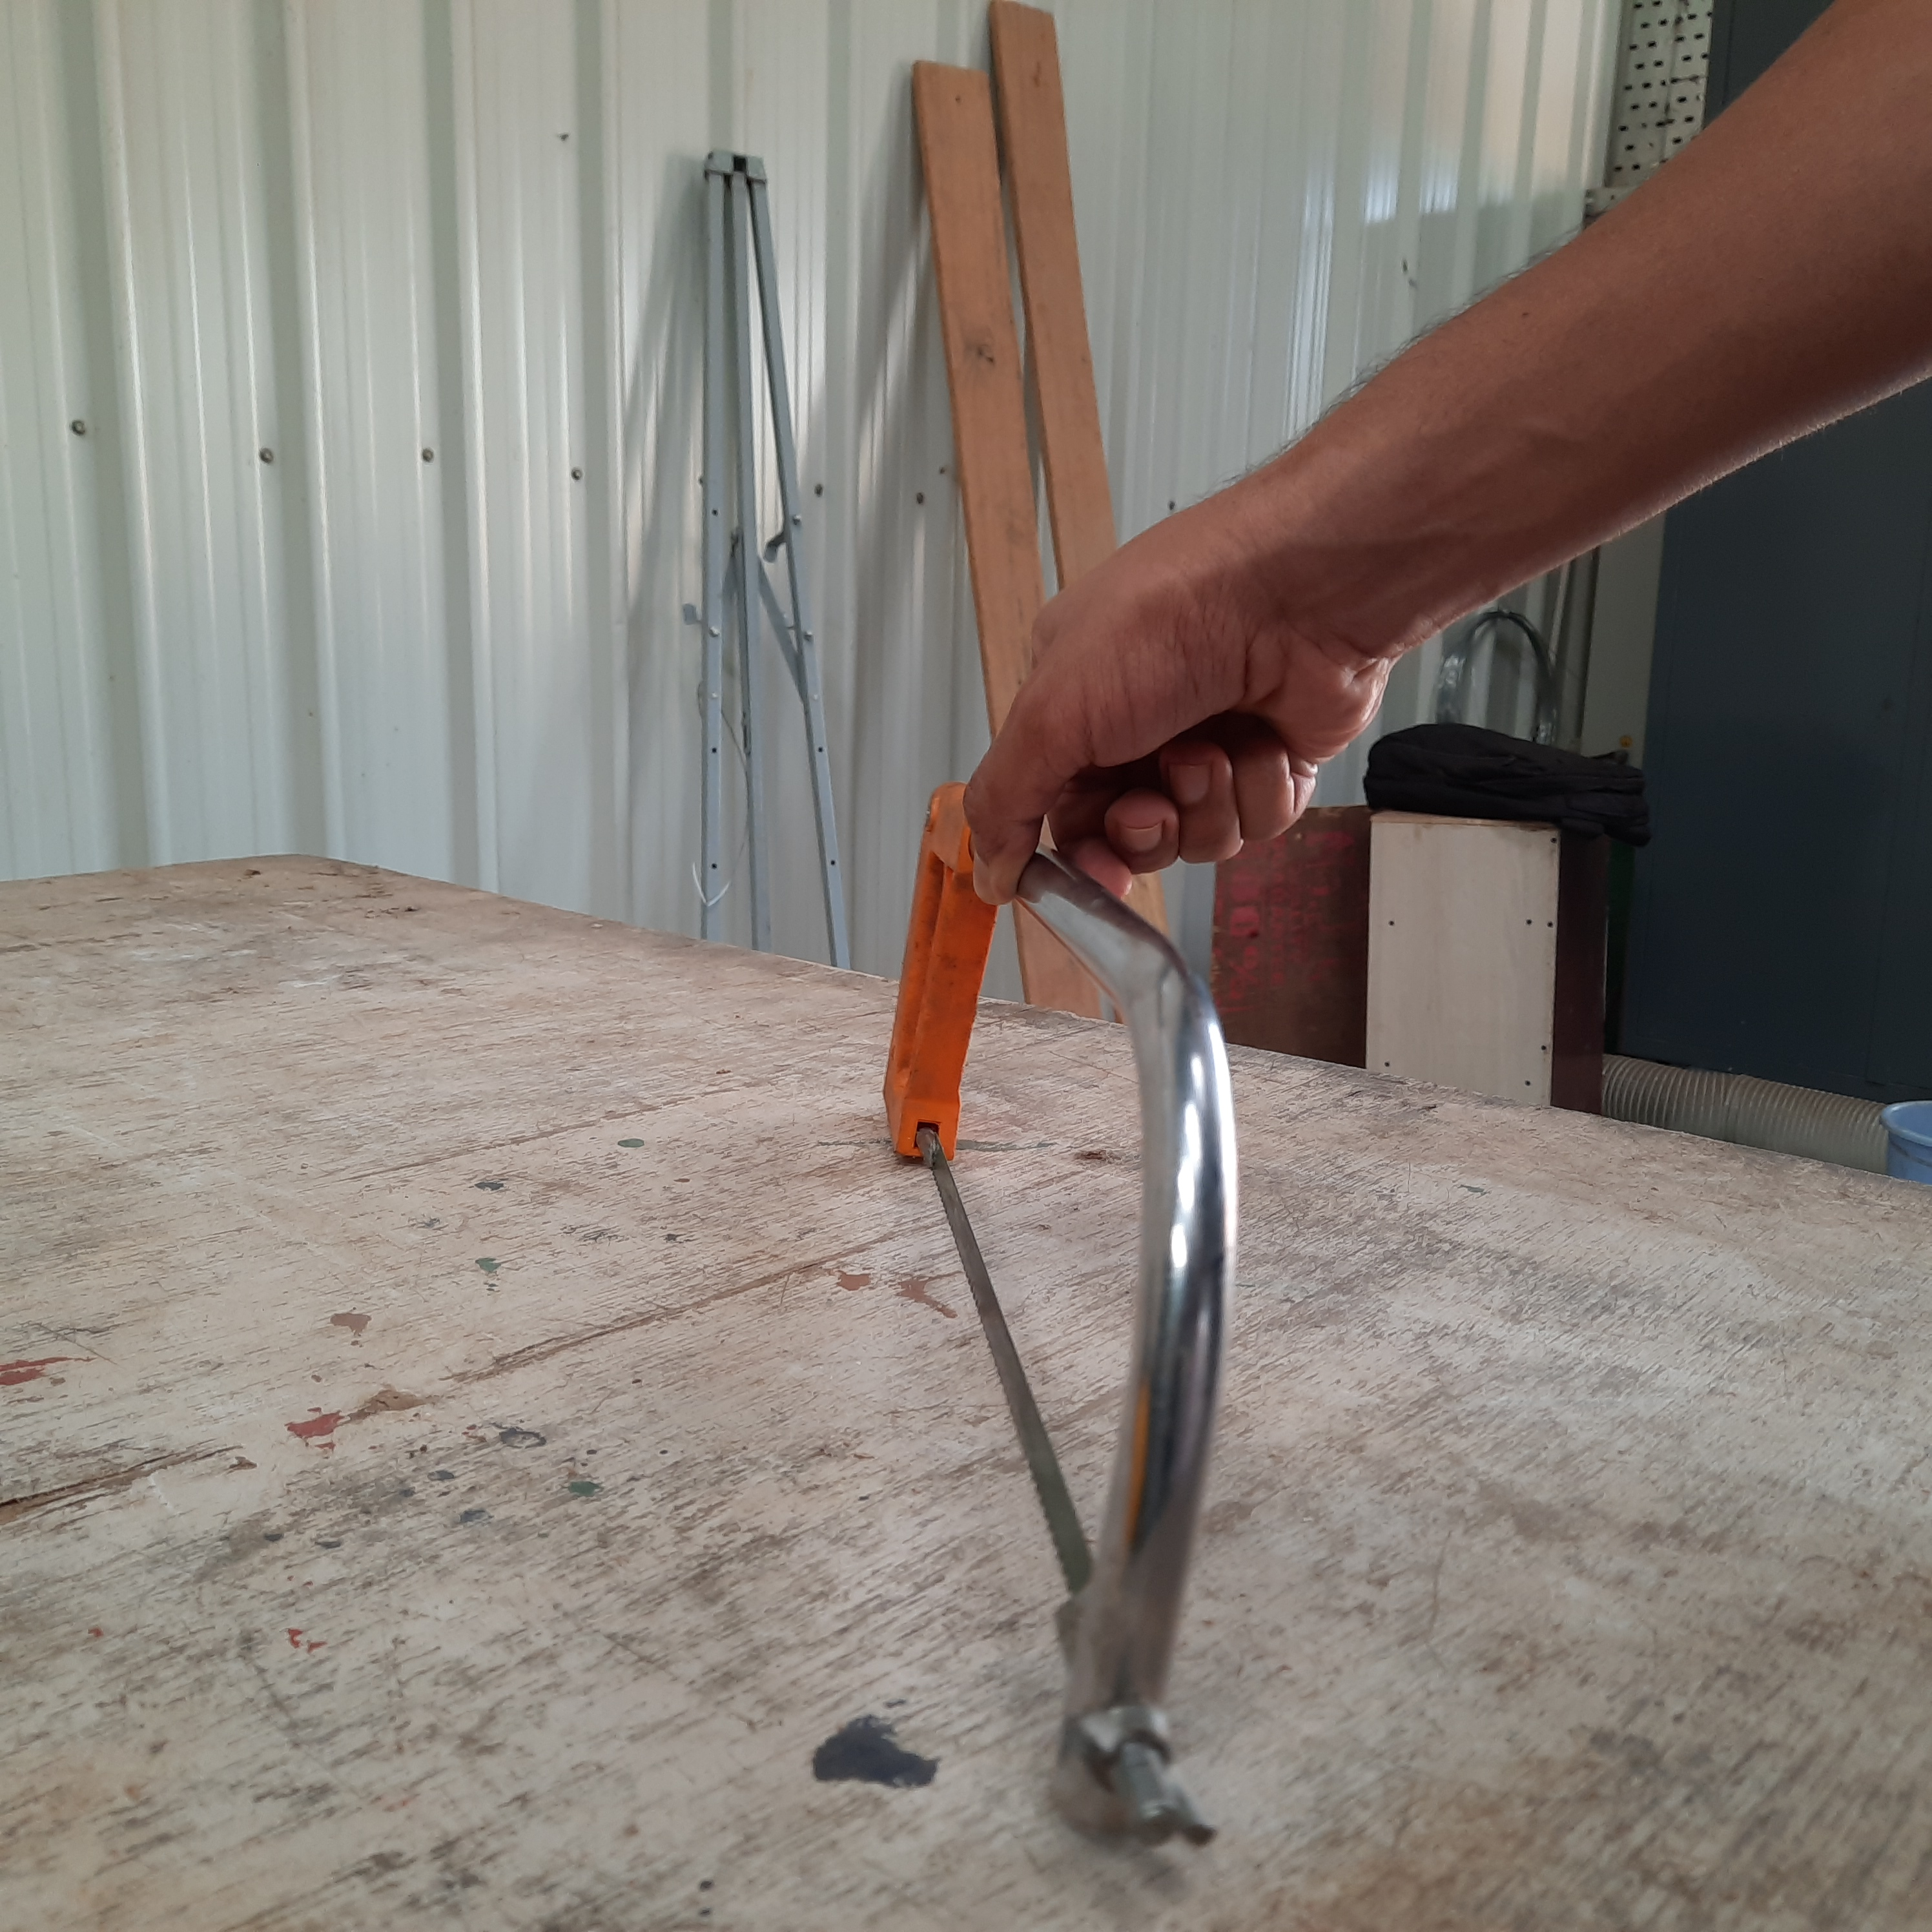Hexaframe: (842, 727, 1327, 1870)
